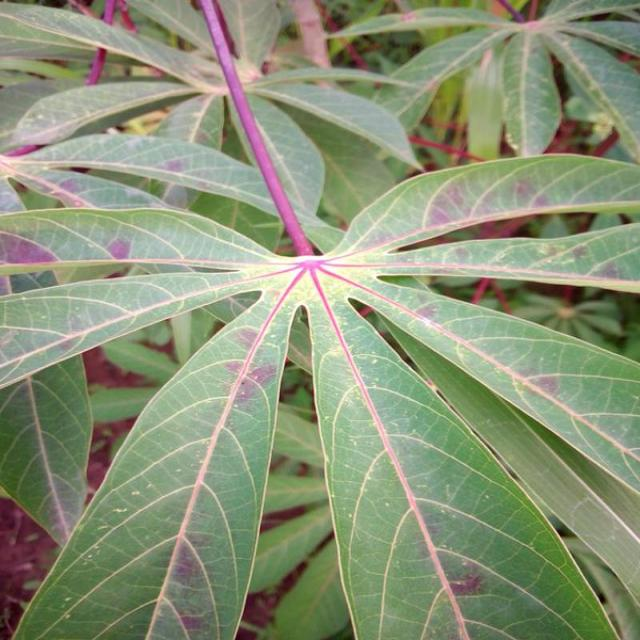cassava leaf: (2, 1, 639, 638), (310, 268, 623, 638), (10, 273, 304, 638)
